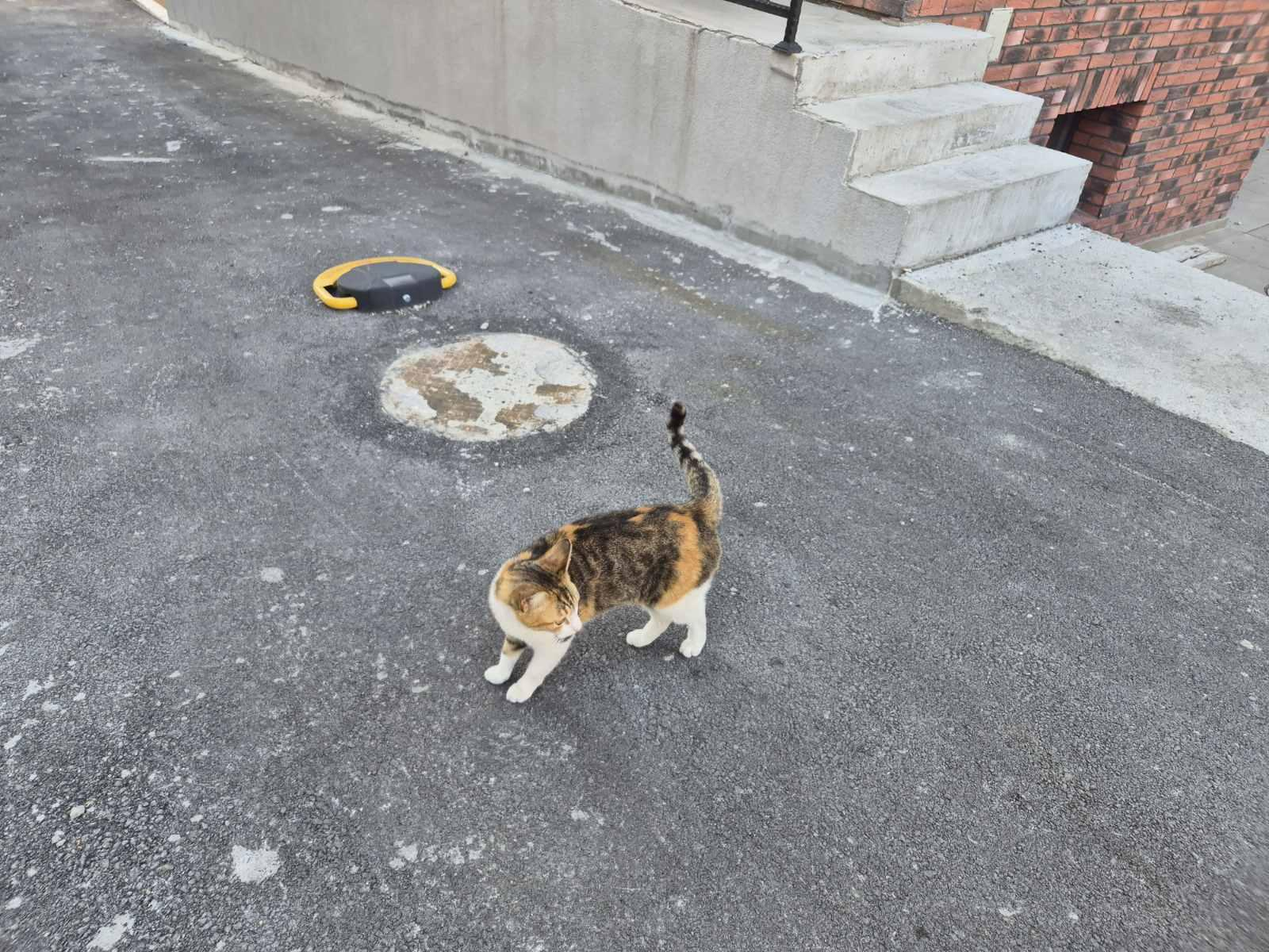macka: (483, 398, 723, 704)
